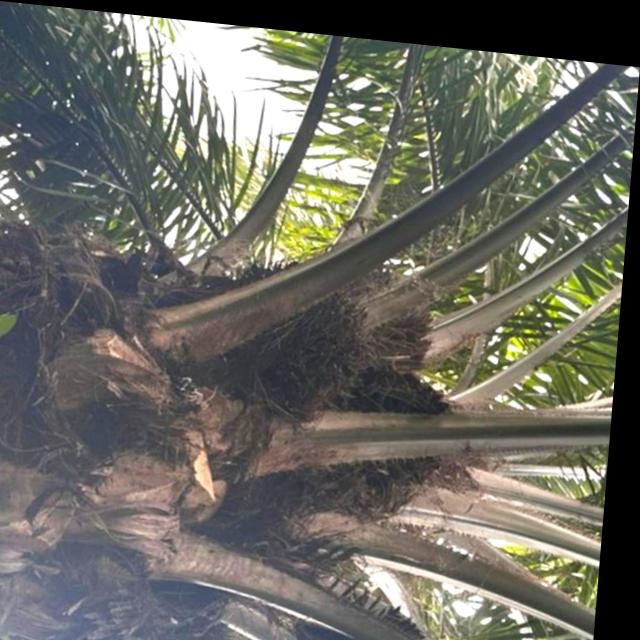unripe: (201, 241, 385, 426)
